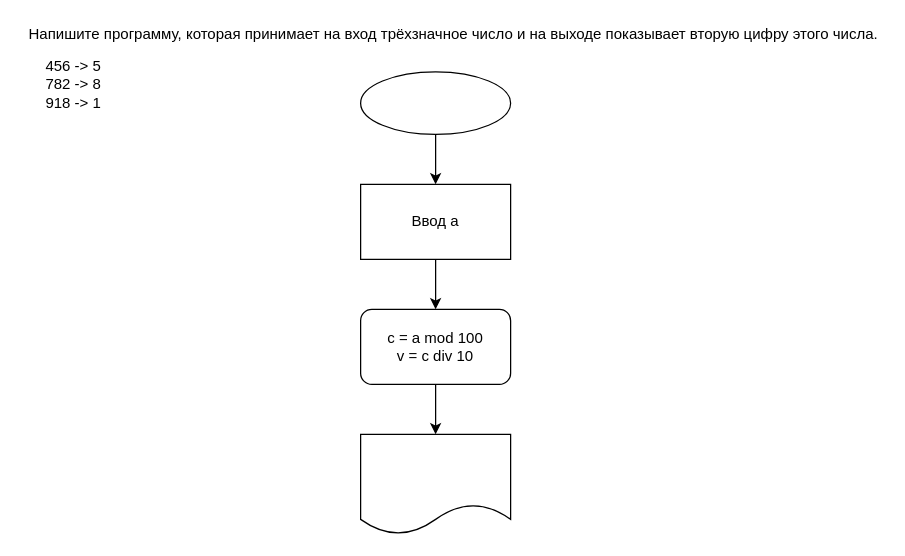
Some shapes in this 905 by 556 pixel diagram are drawn without their labels. The centre of each missing label's shape, as x and y in pixels:
START: (435,102)
Вывод v: (435,483)
